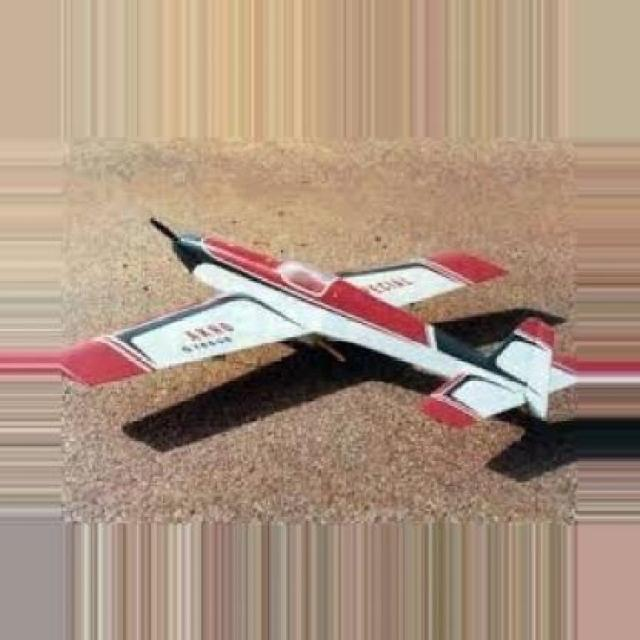iha: (45, 119, 625, 499)
